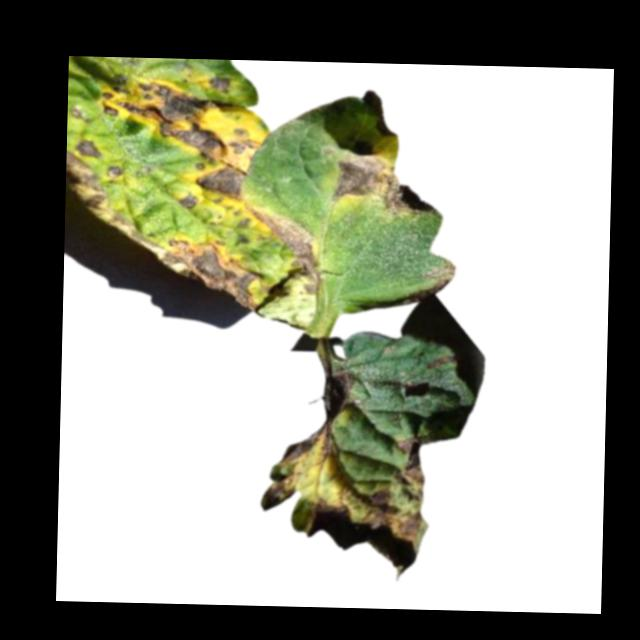Early_blight: (63, 80, 267, 323), (256, 363, 431, 580), (330, 147, 439, 209), (249, 207, 324, 282), (423, 262, 455, 293), (206, 72, 230, 93), (426, 352, 453, 368)
